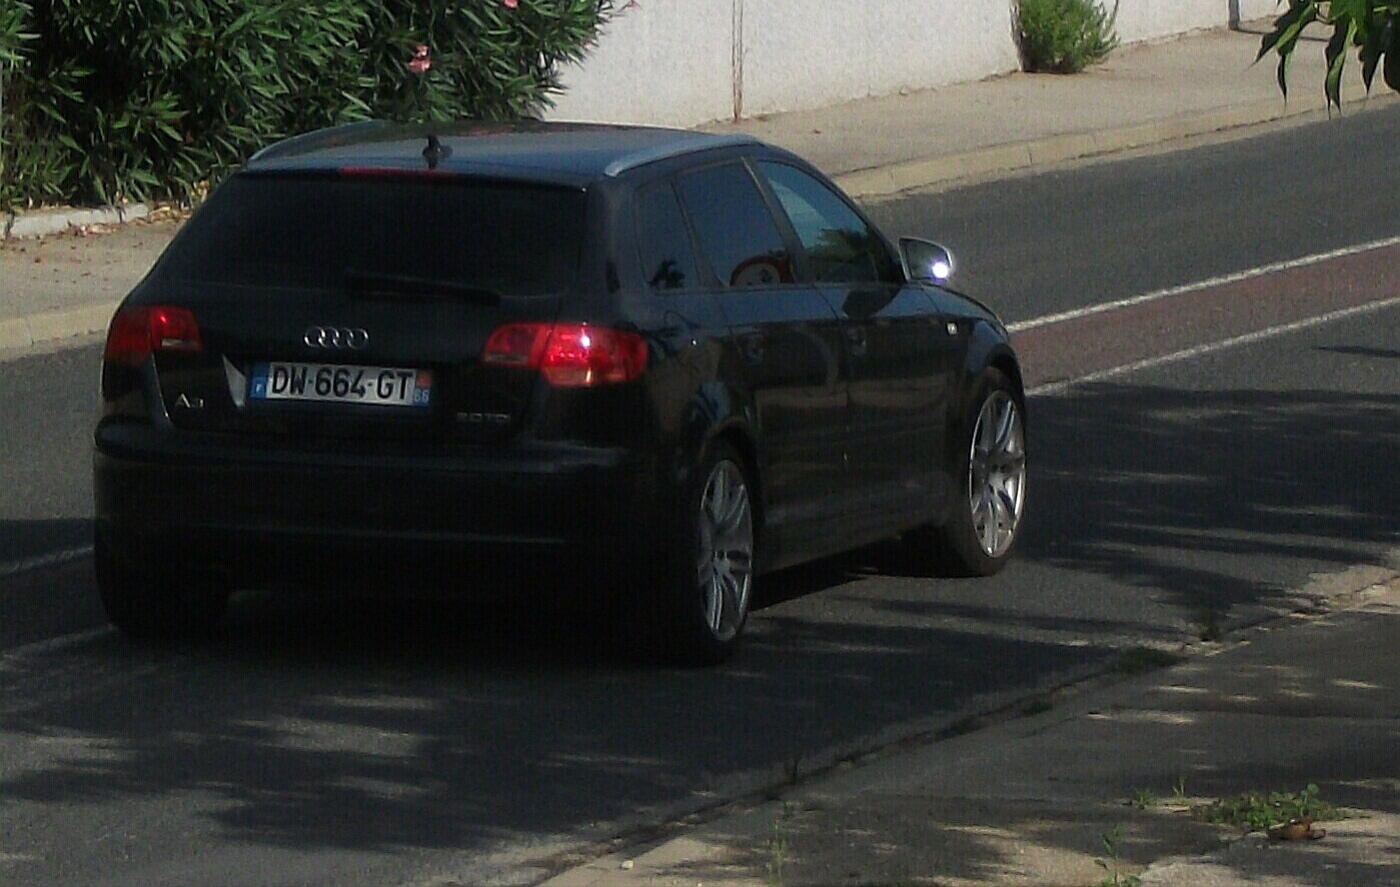licence plate: (246, 357, 438, 408)
